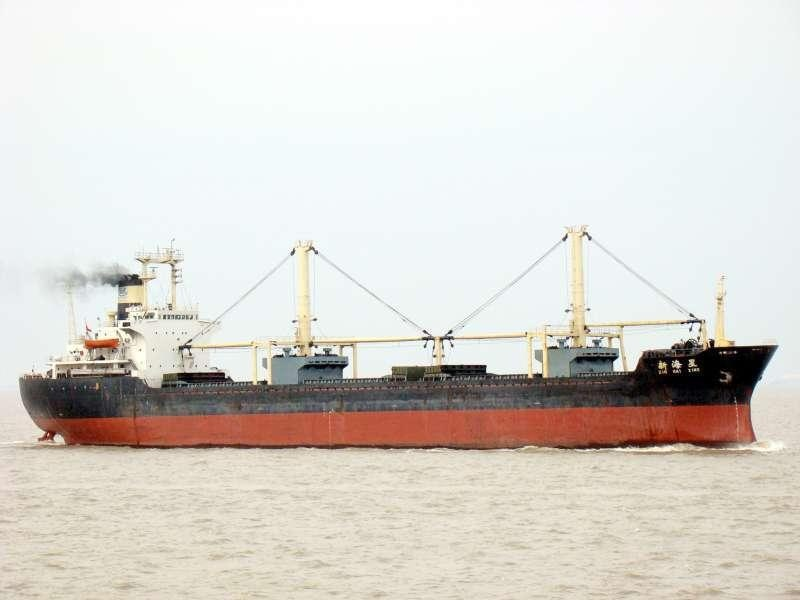Cargoship: (13, 221, 776, 451)
